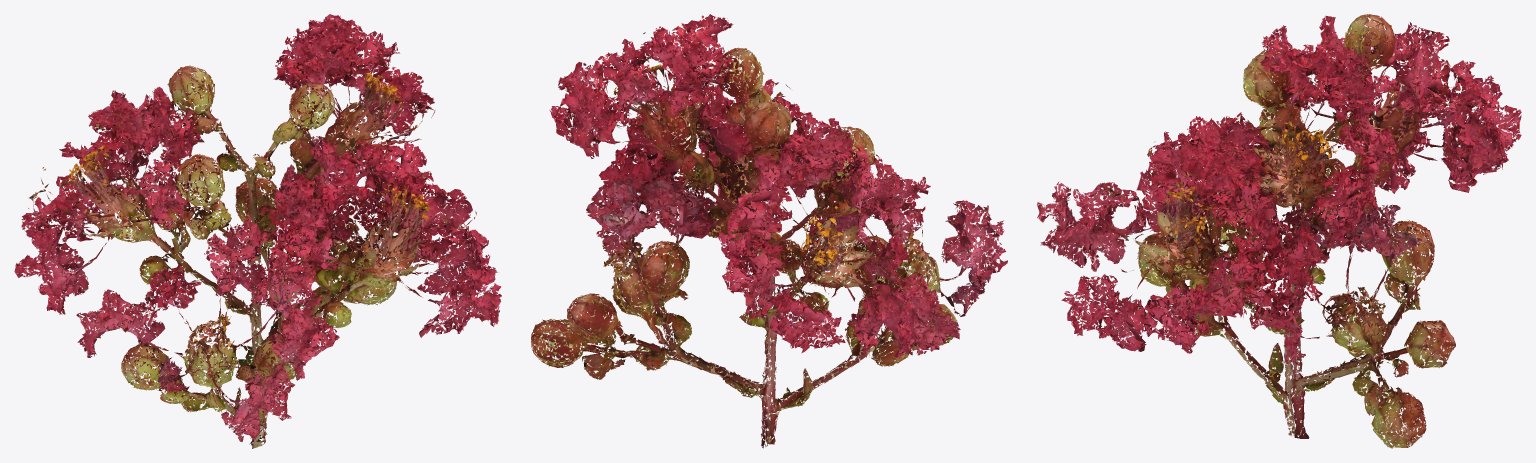
File: flower.glb
3 views of the same model, side by side, from view 1: azimuth 30°, elevation 25°; view 2: azimuth 150°, elevation 25°; view 3: azimuth 270°, elevation 25° (orthographic). The views are drawn at different scales.
Parts seen in each view (by area): view 1: Object_6; view 2: Object_6; view 3: Object_6.
Boxes of the visible parts, <box> form: Object_6: <box>14,14,501,448</box>; Object_6: <box>531,14,1007,448</box>; Object_6: <box>1037,14,1521,448</box>.
Bounding box in the file's own units: 5.01 × 5.04 × 5.
3 materials, 3 textured.
